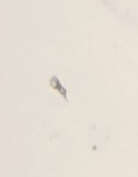microplastic: (49, 75, 67, 99)
